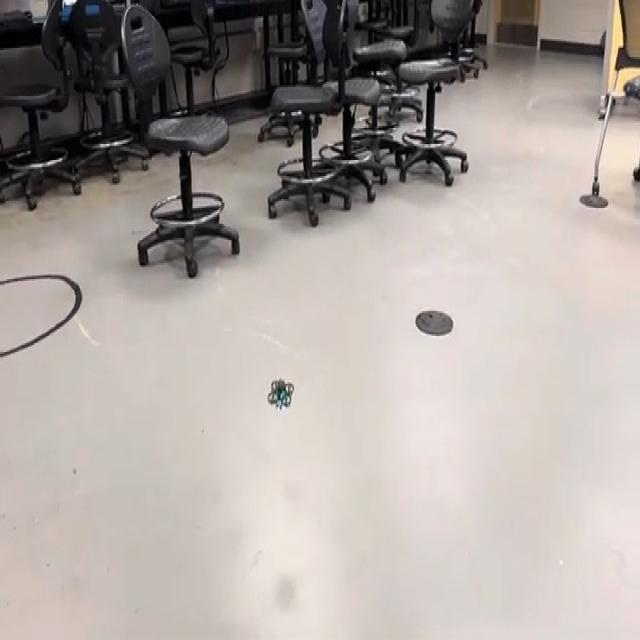drone: (262, 366, 297, 418)
